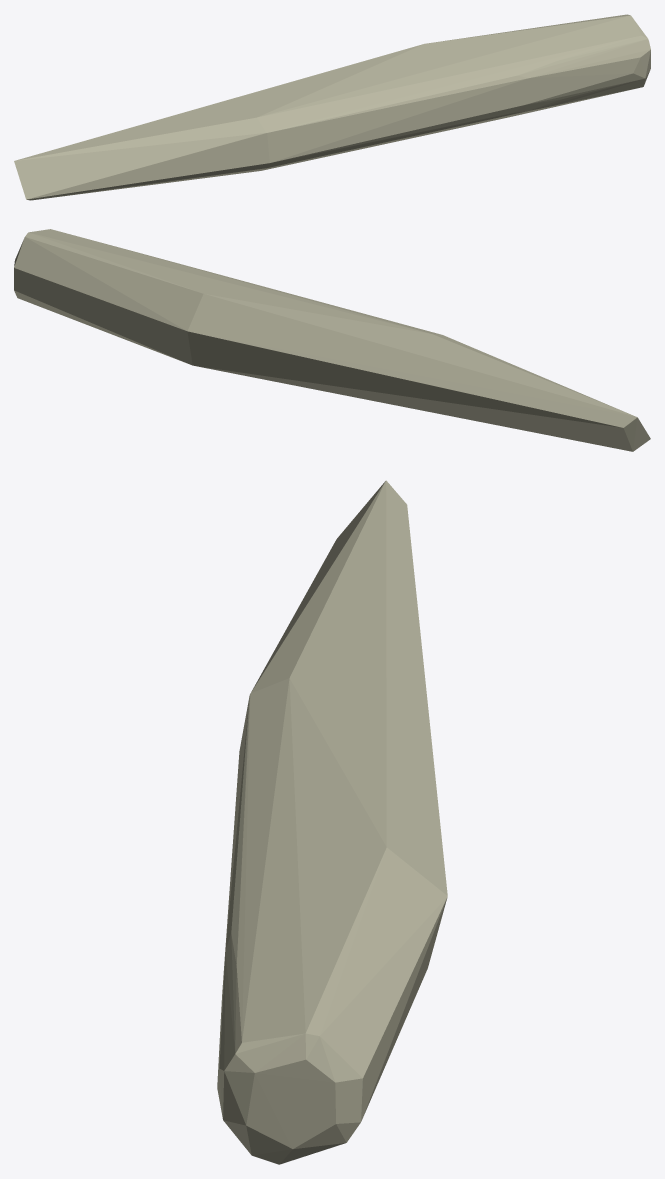
File: device_insulin_lancing_b01.glb
3 views of the same model, one above another, from view 1: azimuth 30°, elevation 25°; view 2: azimuth 150°, elevation 25°; view 3: azimuth 270°, elevation 25° (orthographic). The views are drawn at different scales.
Parts seen in each view (by area): view 1: geometry_0; view 2: geometry_0; view 3: geometry_0.
Part boxes in pixels (<box>): geometry_0: <box>14,14,650,200</box>; geometry_0: <box>14,229,650,451</box>; geometry_0: <box>217,480,447,1164</box>.
Size of the model in its own units: 0.48 by 0.0517 by 0.0796.
